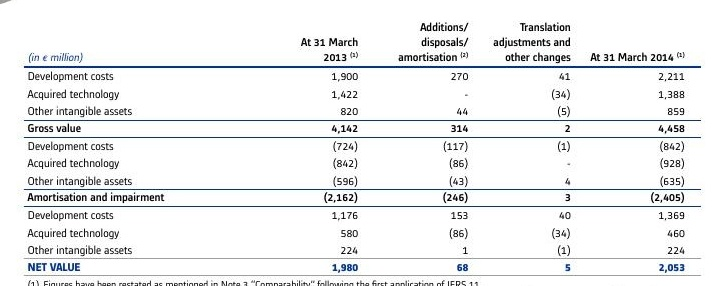table: (0, 0, 720, 286)
